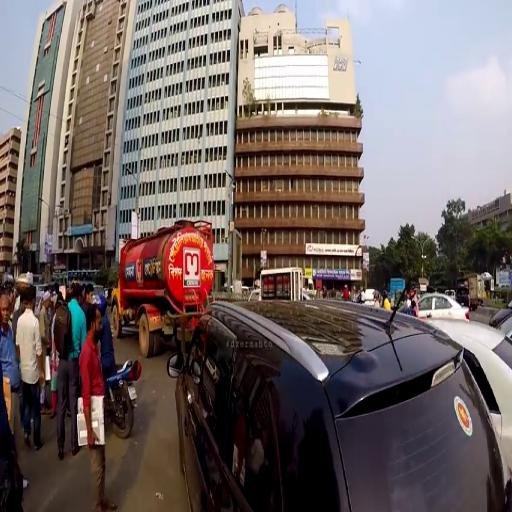car: (423, 317, 512, 485), (417, 293, 470, 322)
motorbike: (102, 361, 138, 441)
suv: (168, 297, 508, 512)
truck: (109, 227, 214, 360)
